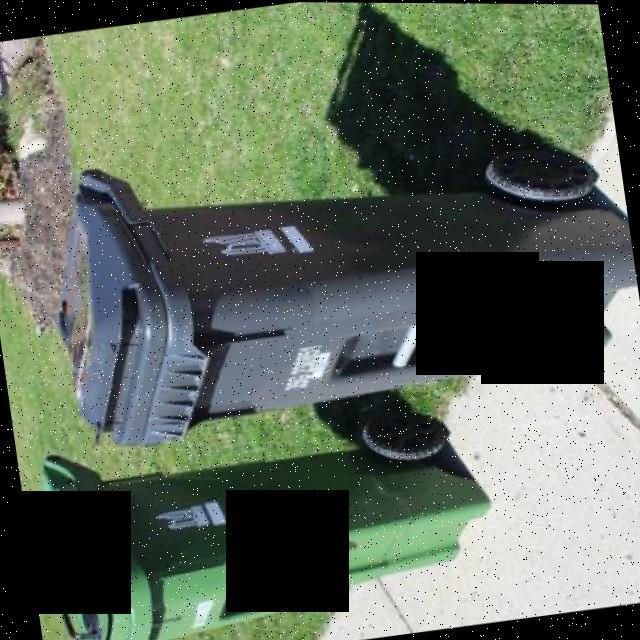bin: (21, 82, 640, 463), (18, 382, 520, 640)
